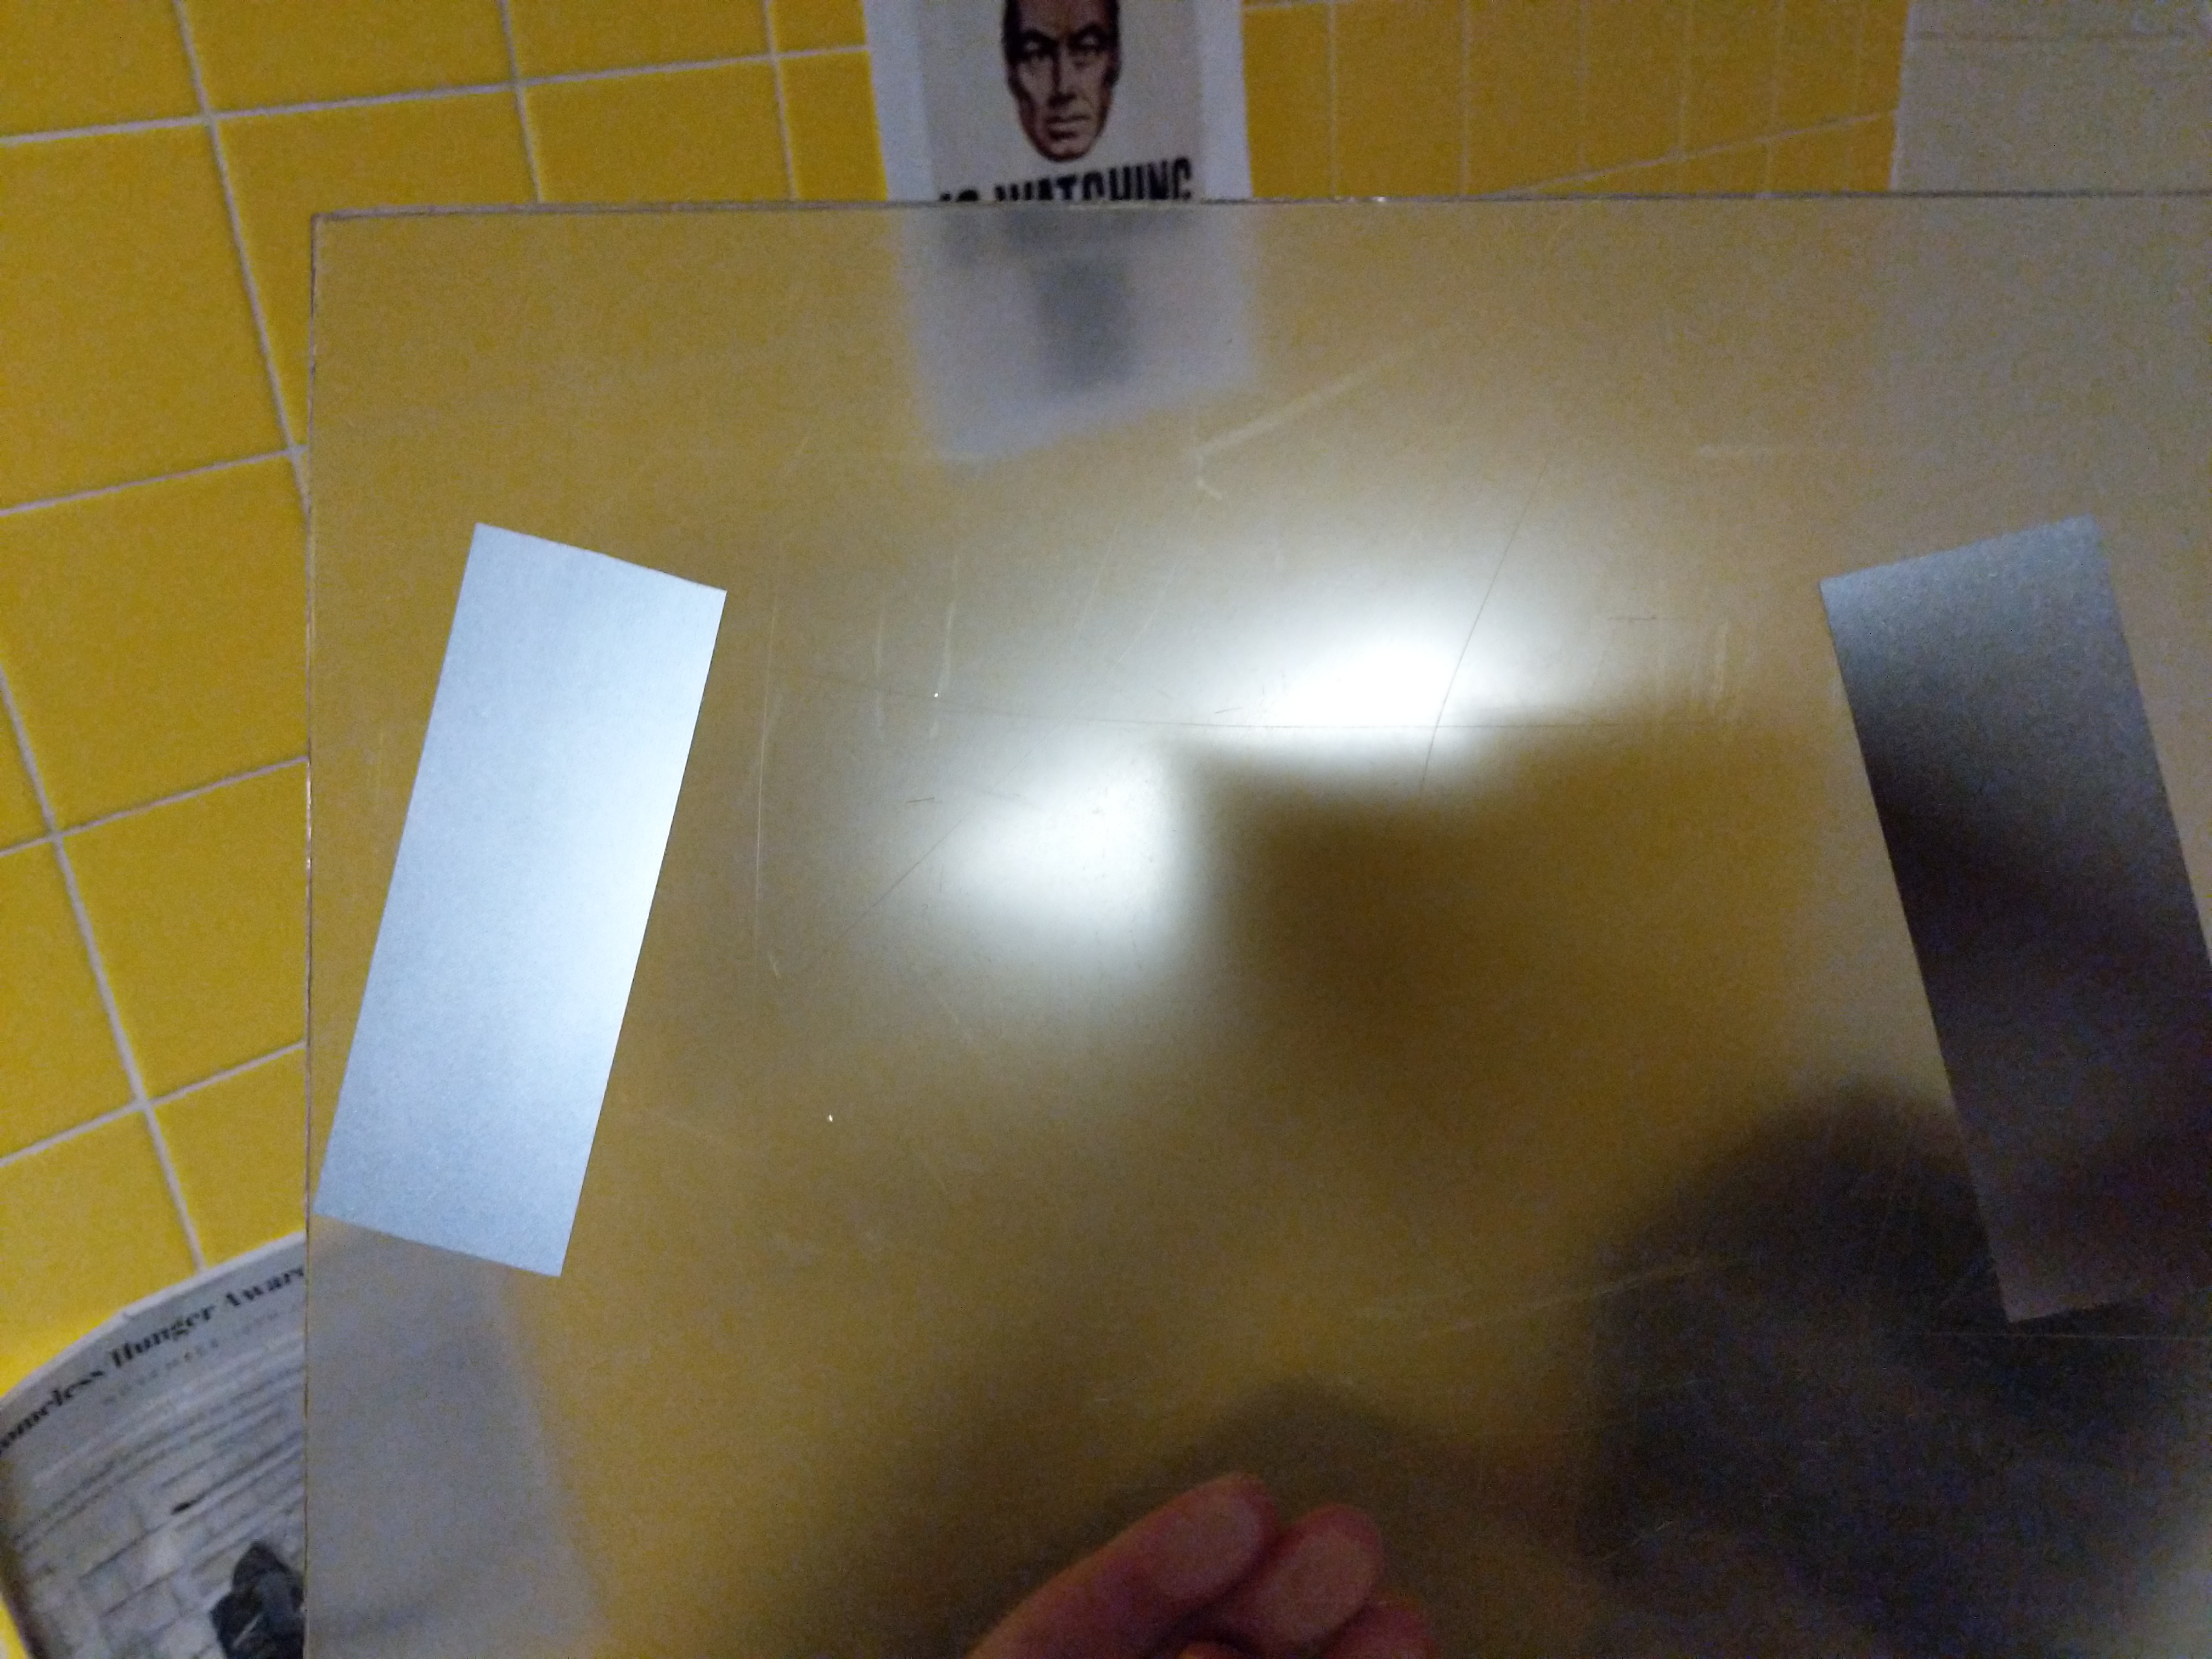vision_target: (307, 504, 2212, 1345)
